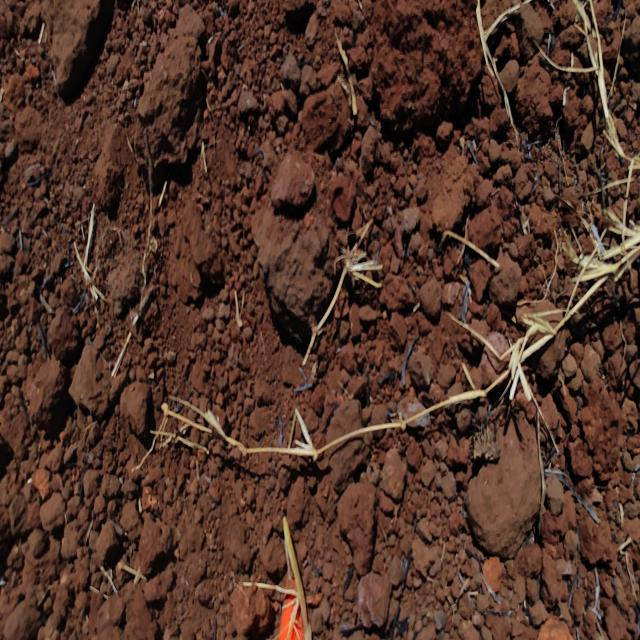Orange_hammer: (274, 567, 309, 640)
rock: (464, 400, 545, 567), (136, 10, 210, 151), (116, 379, 154, 436)
